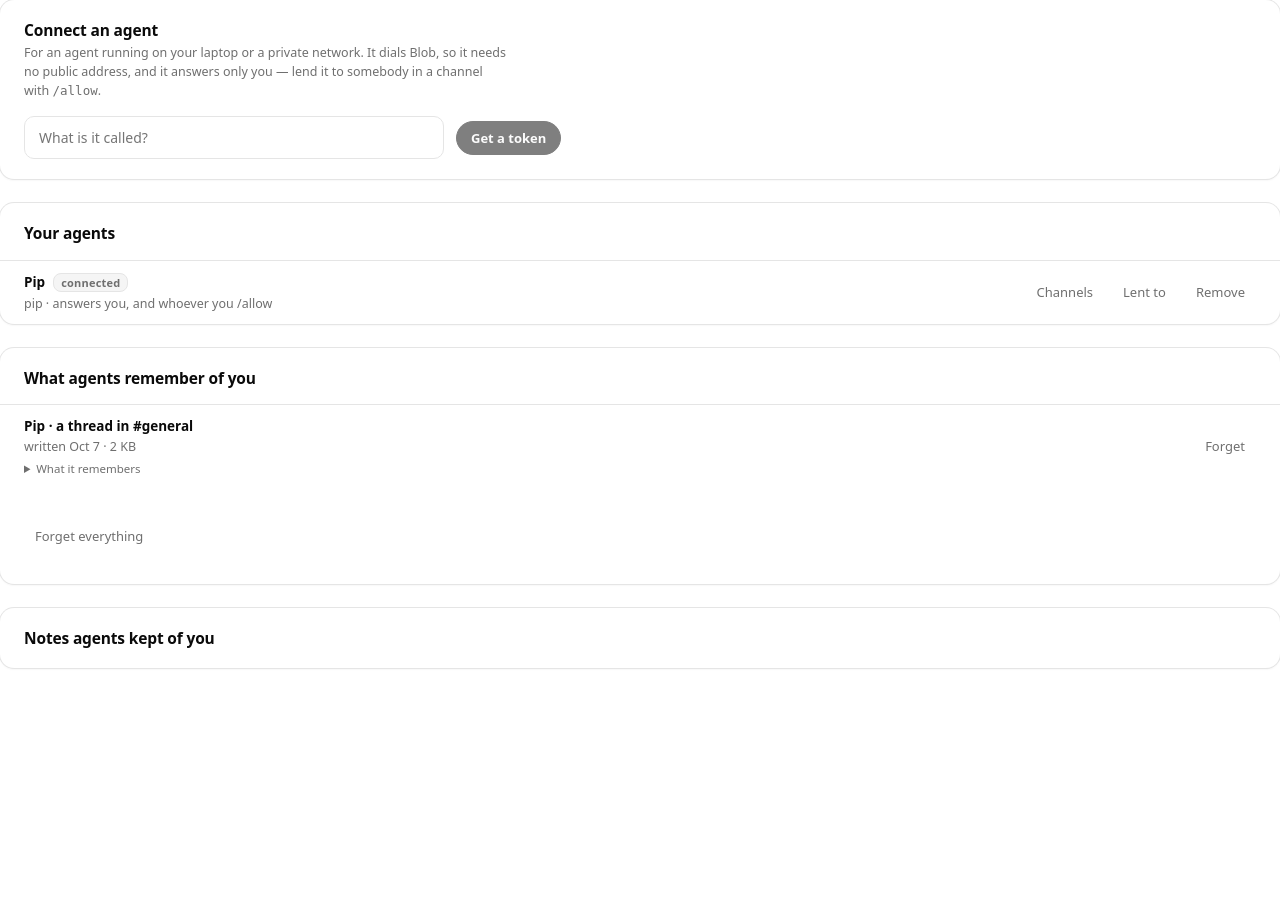
Scenario: what agents remember of you › lists each memory with where it is from, and forgets one when asked
The width and height of the screenshot is (1280, 900).
Check: the text "Pip · a thread in #general" is shown, box [24,417,193,435]
Click the button "Forget": (1225, 446) [1194,430,1256,462]
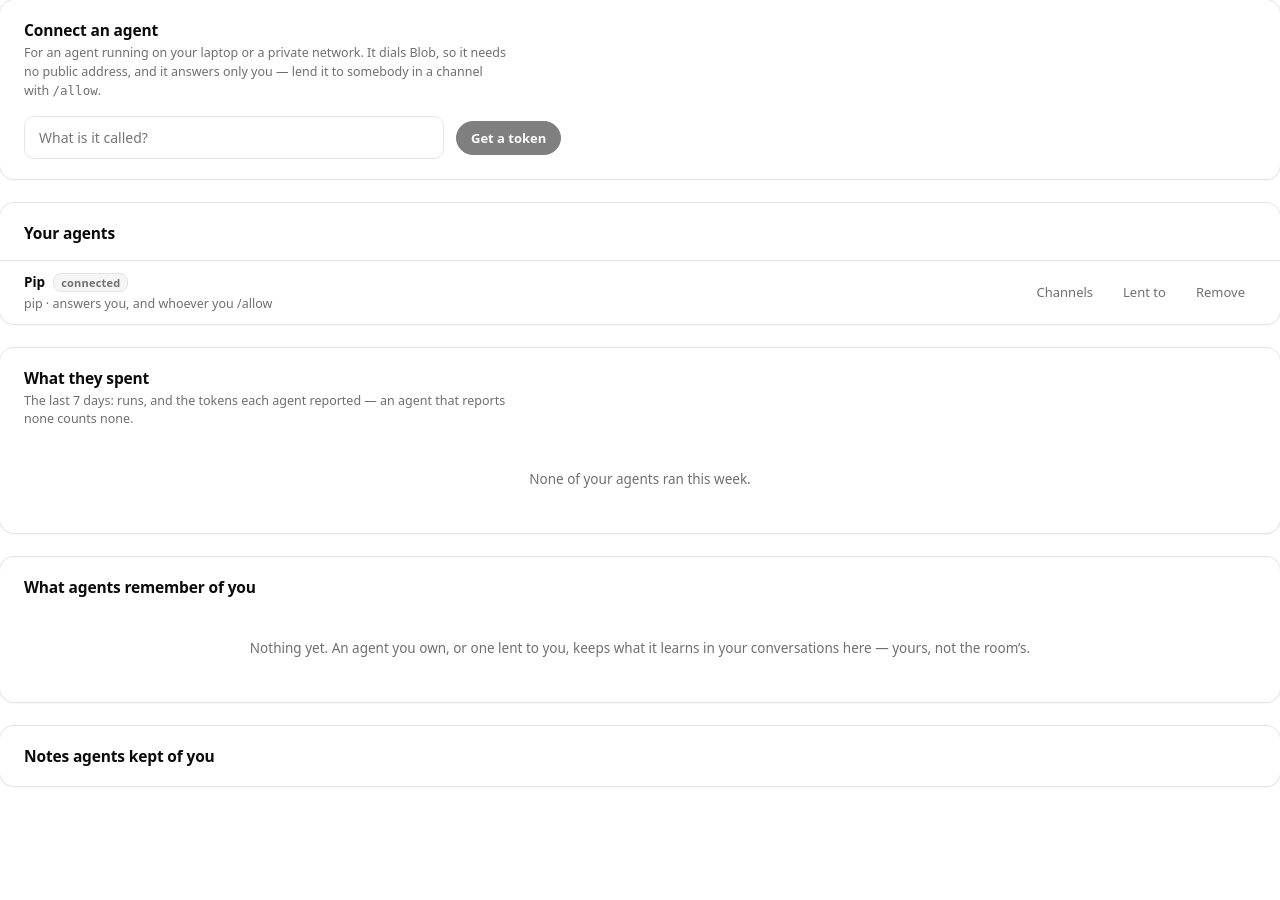
Check: the text "Nothing yet" is shown, box [250,639,1030,657]
